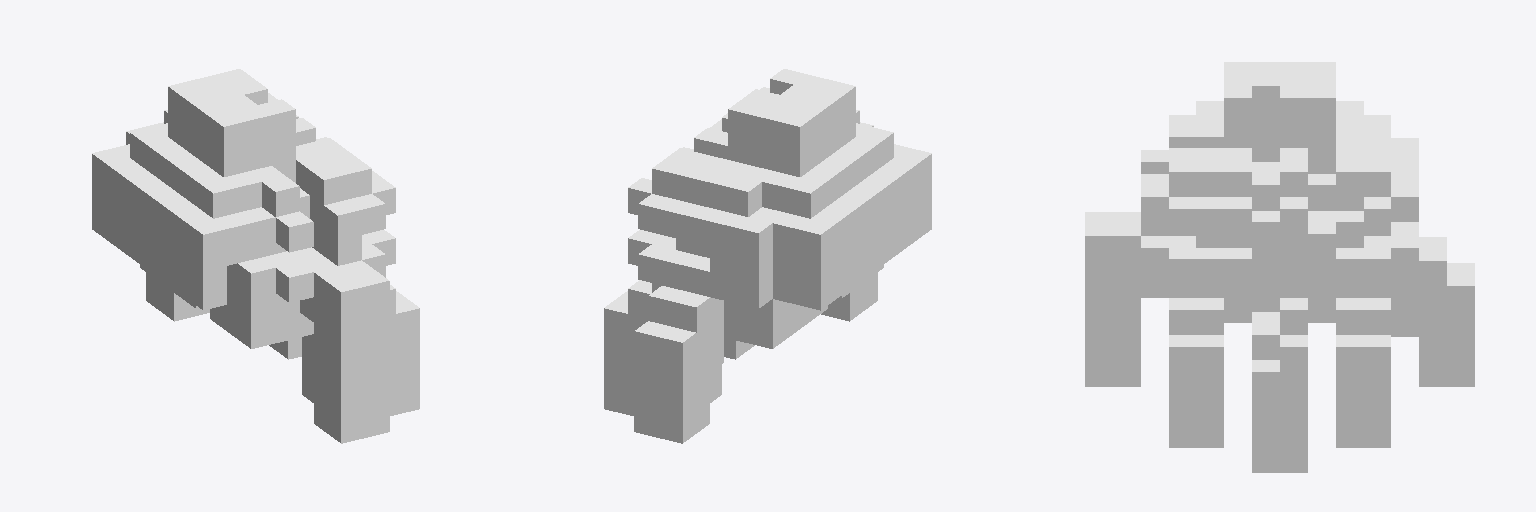
The model's file is golem-2.obj.
The picture shows the model from 3 angles: view 1: azimuth 30°, elevation 25°; view 2: azimuth 150°, elevation 25°; view 3: azimuth 270°, elevation 25°; orthographic projection.
Parts seen in each view (by area): view 1: object 1; view 2: object 1; view 3: object 1.
Boxes of the visible parts, box(x1,y1,x2,y2) form: object 1: box(92, 69, 419, 443); object 1: box(604, 69, 931, 443); object 1: box(1085, 62, 1474, 472).
Size of the model in its own units: 0.9 by 1.3 by 1.4.